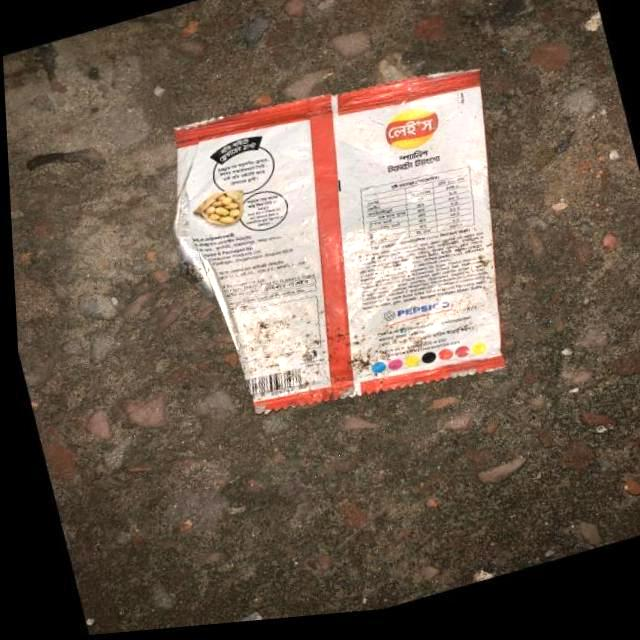packet: (164, 73, 505, 450)
